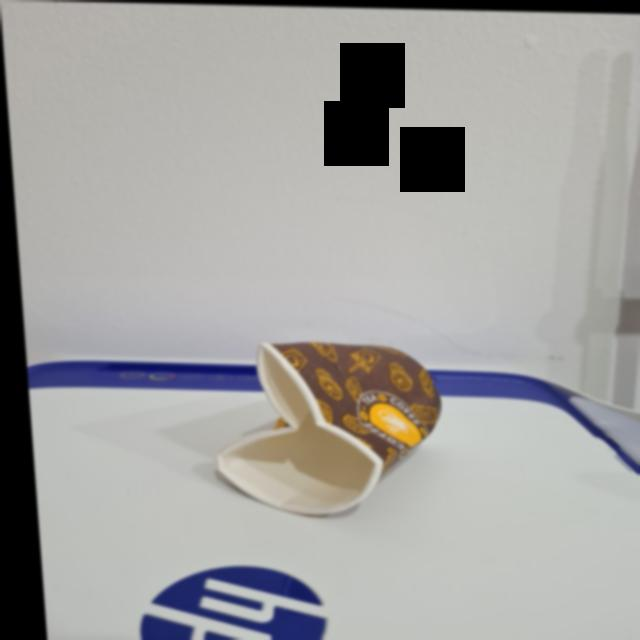cups: (194, 325, 455, 524)
